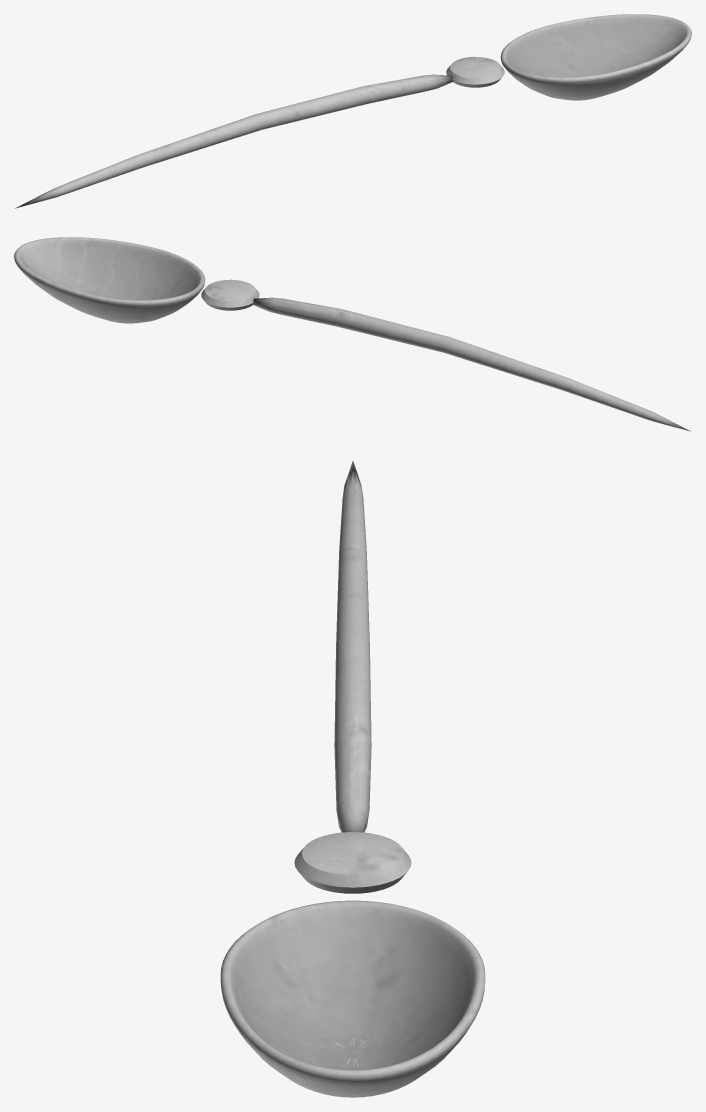
The model's file is silver_spoon.glb.
3 views of the same model, one above another, from view 1: azimuth 30°, elevation 25°; view 2: azimuth 150°, elevation 25°; view 3: azimuth 270°, elevation 25° (orthographic). The views are drawn at different scales.
Visible parts, largest first — view 1: silver_spoon; view 2: silver_spoon; view 3: silver_spoon.
Part boxes in pixels (x1,y1,x2,y2): silver_spoon: (15, 14, 691, 208); silver_spoon: (14, 237, 690, 431); silver_spoon: (220, 461, 485, 1097).
Size of the model in its own units: 0.1503 by 0.0127 by 0.0256.
1 material, 1 textured.
